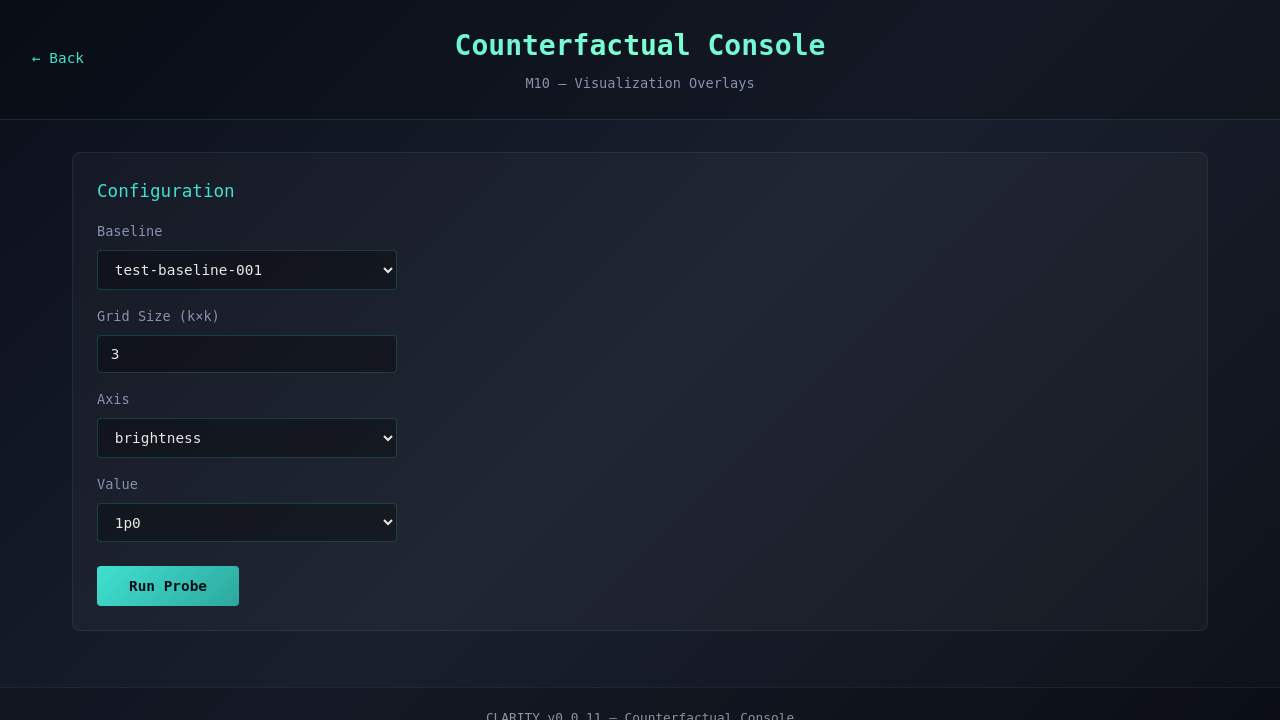
CounterfactualConsole Error Handling › renders delta coloring correctly for positive deltas
The width and height of the screenshot is (1280, 720).
Click the button "Run Probe".
click(168, 586)  # box [97,566,239,606]
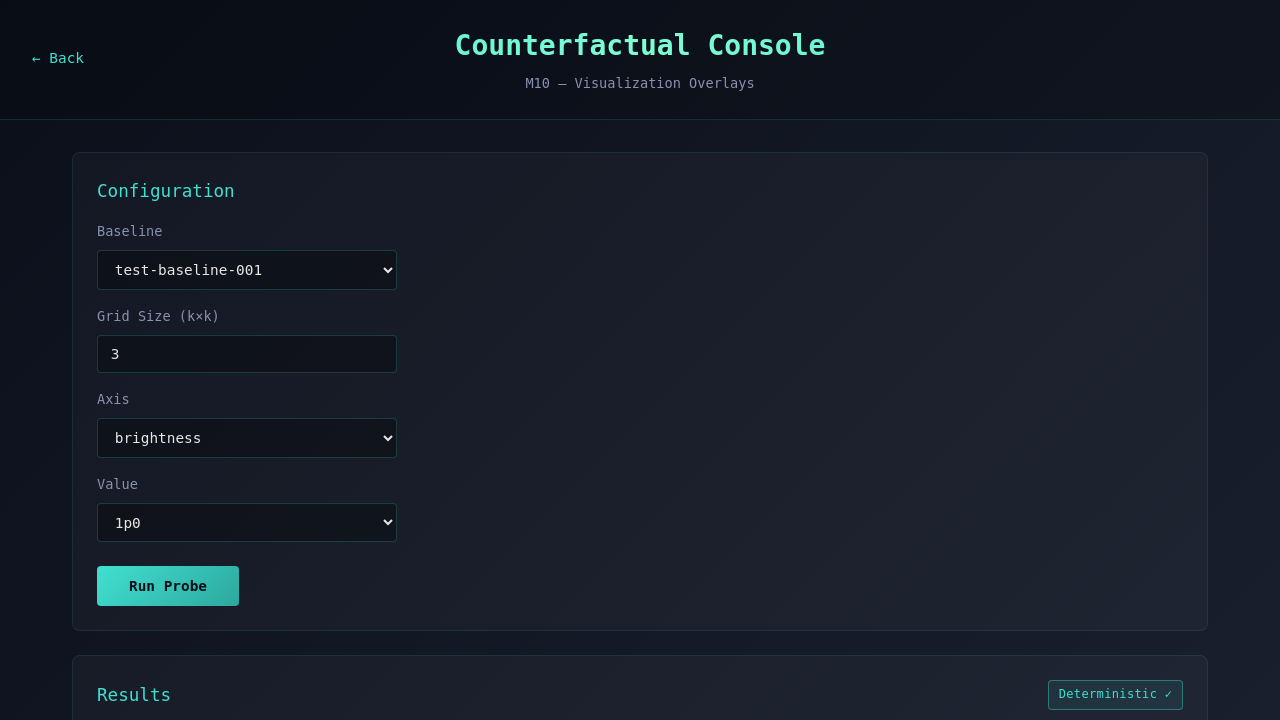
Now the heading "Results" is shown, box [97,681,171,709]
